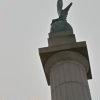Statue: (35, 3, 96, 80)
